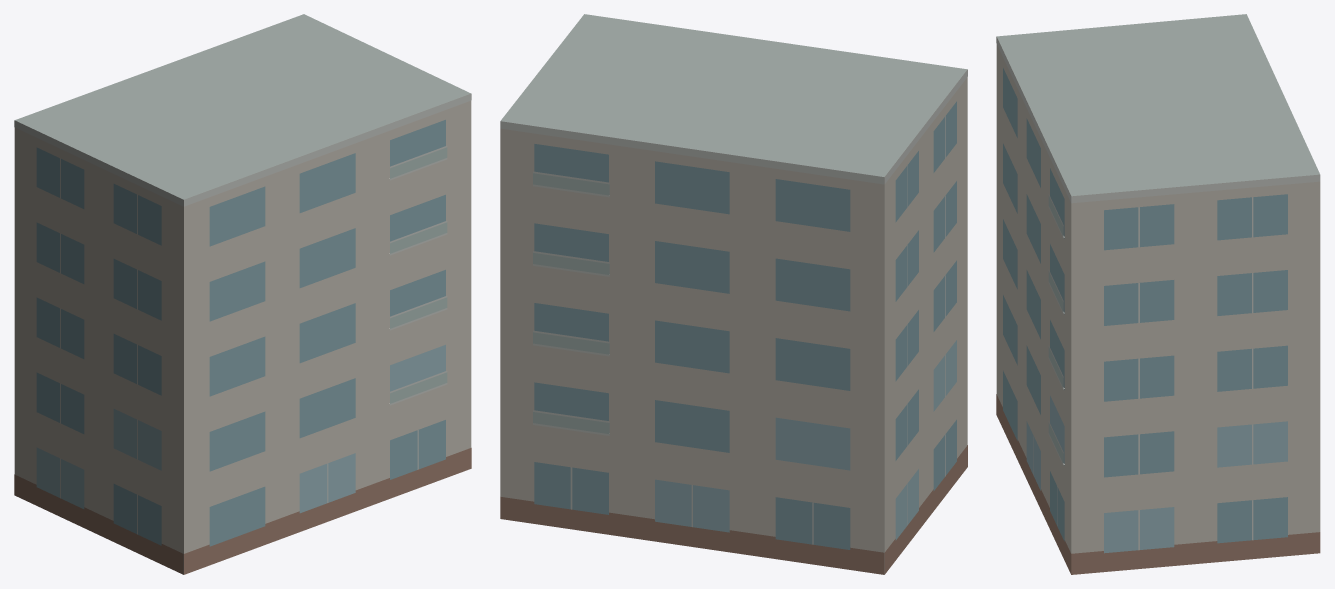
The model's file is survey-upis-32546804.glb.
3 renders of one model, left to right at view 1: azimuth 30°, elevation 25°; view 2: azimuth 150°, elevation 25°; view 3: azimuth 270°, elevation 25°, orthographic. The views are drawn at different scales.
Parts seen in each view (by area): view 1: survey-upis-32546804.tmp; view 2: survey-upis-32546804.tmp; view 3: survey-upis-32546804.tmp.
Boxes of the visible parts, bbox=[...] form: survey-upis-32546804.tmp: bbox=[14, 14, 471, 574]; survey-upis-32546804.tmp: bbox=[500, 14, 967, 574]; survey-upis-32546804.tmp: bbox=[996, 14, 1320, 574].
Size of the model in its own units: 13.53 by 13.1 by 10.16.
